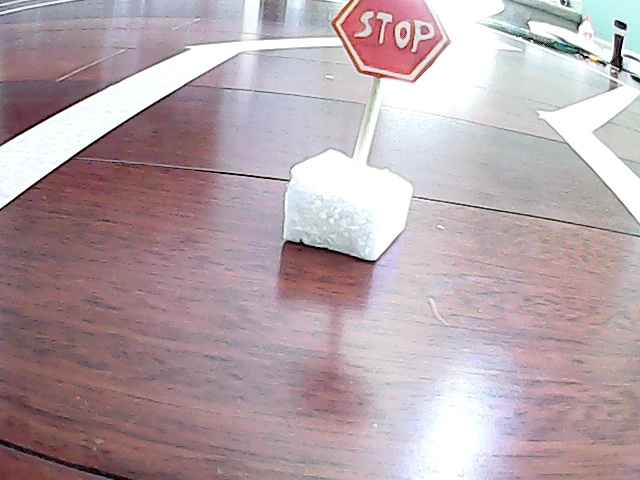stop: (312, 1, 446, 255)
